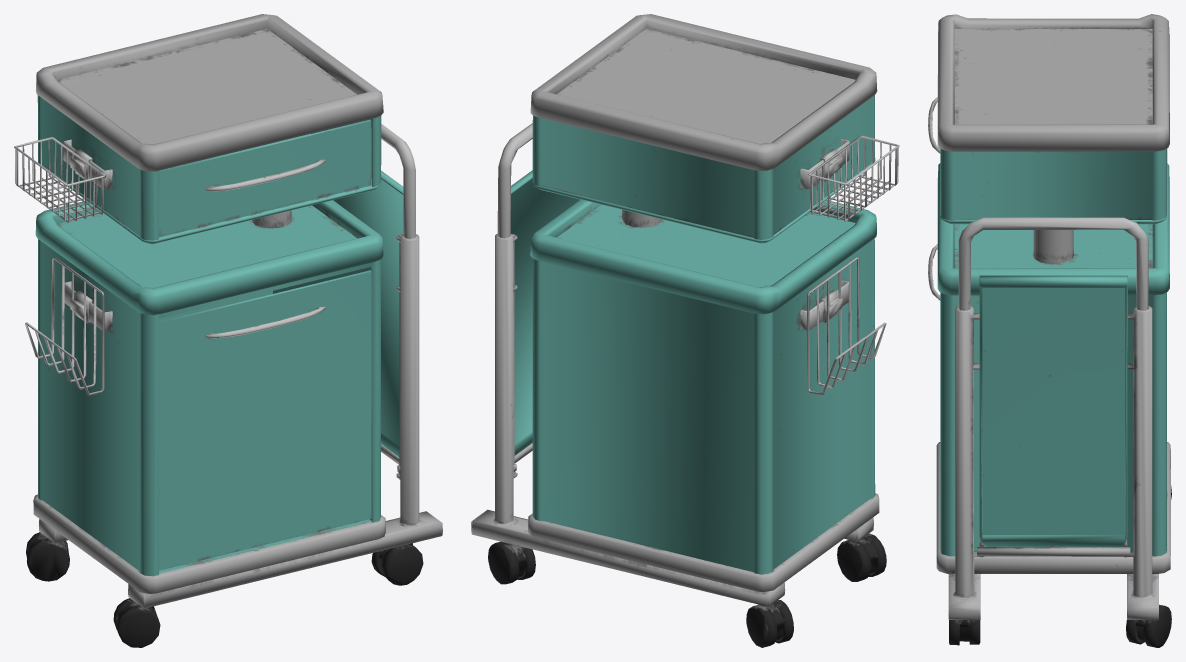
3 renders of one model, left to right at view 1: azimuth 30°, elevation 25°; view 2: azimuth 150°, elevation 25°; view 3: azimuth 270°, elevation 25°, orthographic.
Parts seen in each view (by area): view 1: box; view 2: box; view 3: box.
Boxes of the visible parts, left/top/right/bottom form: box: left=14, top=14, right=442, bottom=647; box: left=471, top=14, right=899, bottom=647; box: left=928, top=14, right=1171, bottom=647.
Size of the model in its own units: 49.57 by 67.57 by 29.73.
